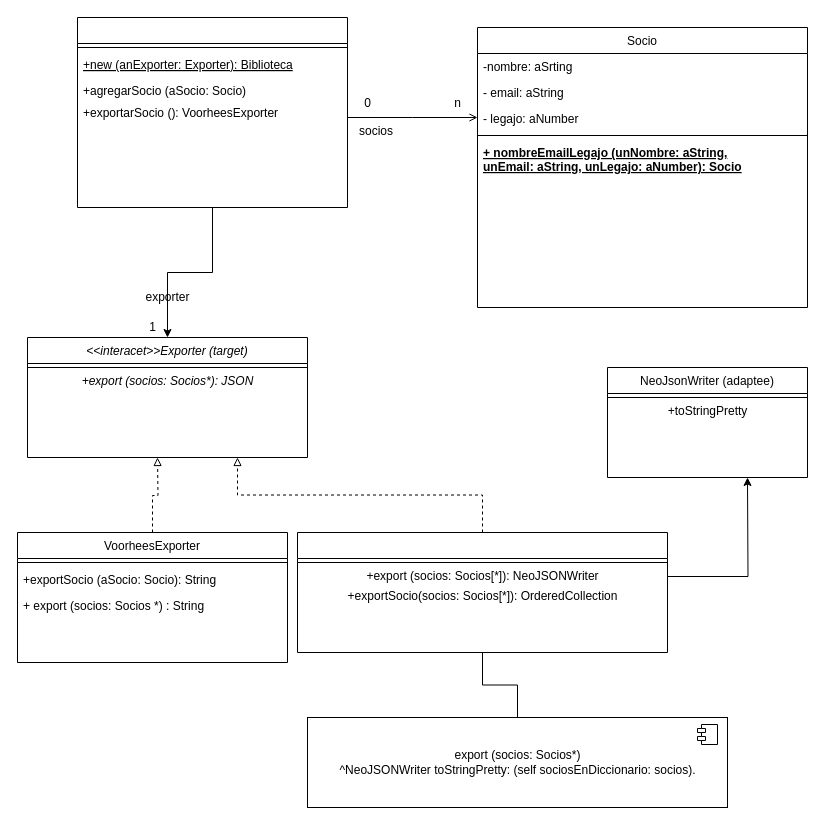
This 825x825 diagram has some shape labels left out. The shapes that lost their labels are listed below. From the top down, each one's box as (x1, y1, x2, y2) in pixels, then its label:
(76, 16, 348, 208): Biblioteca(cliente)
(296, 532, 668, 652): NeoExporter(Adapter)
